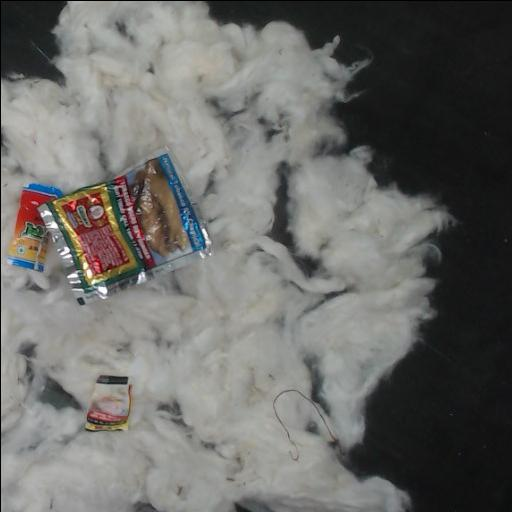conveyor belt: (207, 1, 512, 512), (1, 1, 64, 80), (268, 165, 294, 252), (39, 378, 79, 409), (295, 256, 316, 273)
cotton: (1, 1, 512, 512)
packet: (39, 154, 209, 303), (8, 185, 57, 271), (85, 375, 132, 431)
thread: (272, 388, 335, 461)
